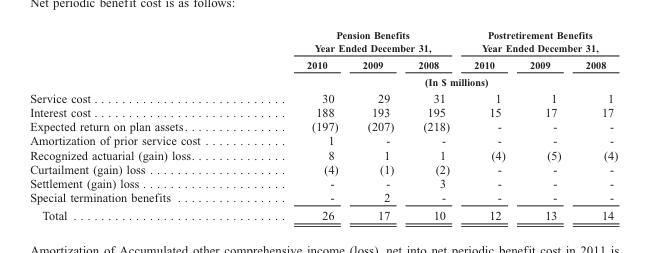table: (29, 29, 617, 222)
table column: (29, 29, 252, 222), (252, 29, 349, 222), (349, 29, 405, 222), (405, 29, 461, 222), (516, 29, 572, 222), (461, 29, 516, 222), (572, 29, 617, 222)
table column header: (29, 29, 617, 89)
table row: (29, 29, 617, 56), (29, 56, 617, 73), (29, 73, 617, 89), (29, 190, 617, 206), (29, 206, 617, 222), (29, 89, 617, 104), (29, 104, 617, 119), (29, 175, 617, 190), (29, 119, 617, 133), (29, 133, 617, 147), (29, 147, 617, 161), (29, 161, 617, 175)
table spanning cell: (252, 73, 617, 89), (252, 29, 461, 56), (461, 29, 617, 56)
